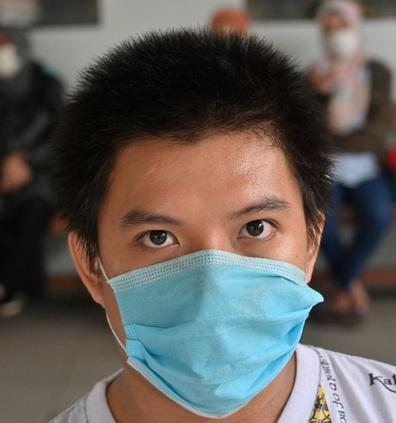OK: (100, 174, 310, 412)
